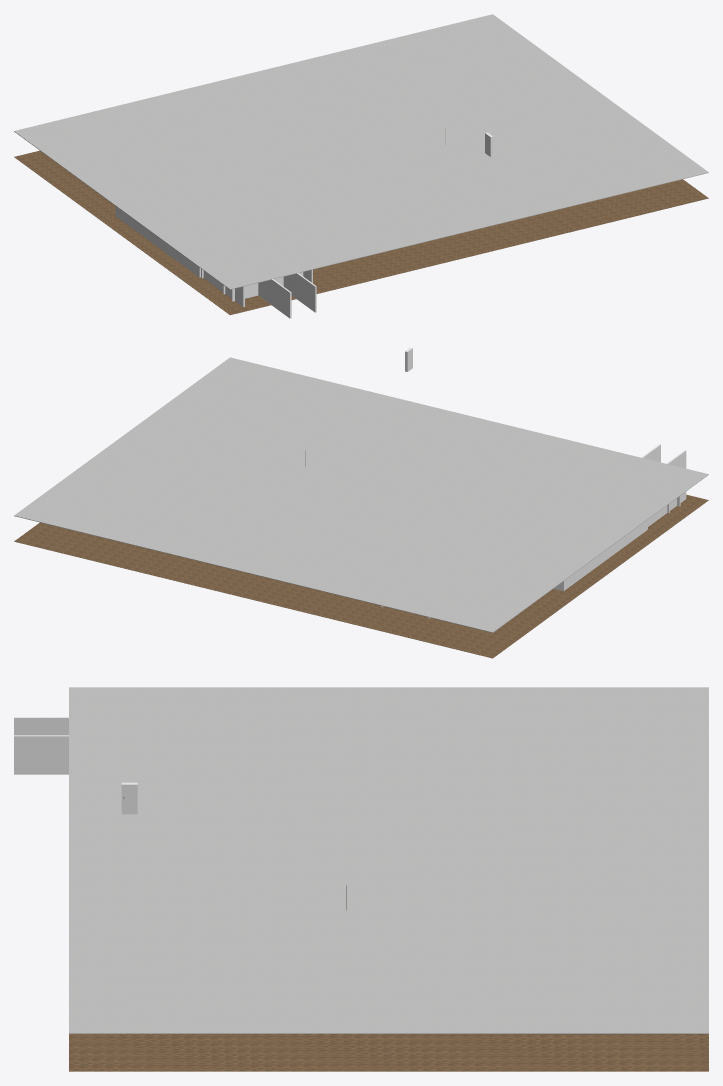
The model's file is Piso_1.fbx.
3 renders of one model, top to bottom at view 1: azimuth 30°, elevation 25°; view 2: azimuth 150°, elevation 25°; view 3: azimuth 270°, elevation 25°, orthographic. The views are drawn at different scales.
Visible parts, largest first — view 1: Techo, Suelo, Paredes; view 2: Techo, Suelo, Paredes; view 3: Techo, Suelo, Paredes.
Part boxes in pixels (box(x1,y1,x2,y2)): Techo: box(14, 14, 708, 289); Suelo: box(14, 150, 708, 315); Paredes: box(115, 132, 493, 318); Techo: box(14, 357, 708, 632); Suelo: box(14, 494, 708, 658); Paredes: box(380, 347, 686, 618); Techo: box(69, 687, 708, 1033); Suelo: box(69, 1034, 708, 1071); Paredes: box(14, 717, 137, 814).
Bounding box in the file's own units: 5840 × 1635 × 4959.
4 materials, 4 textured.
